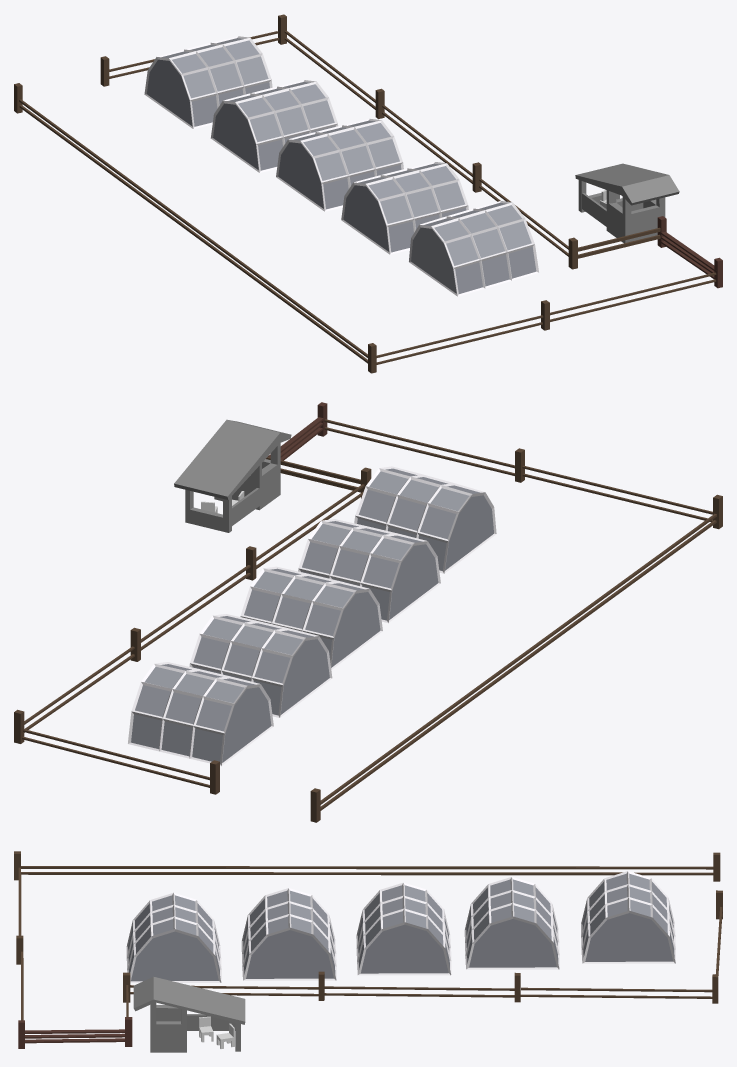
Rendered from Guard_House_Farm_FIN.glb.
The picture shows the model from 3 angles, top to bottom: view 1: azimuth 30°, elevation 25°; view 2: azimuth 150°, elevation 25°; view 3: azimuth 270°, elevation 25°; orthographic projection. The views are drawn at different scales.
Visible parts, largest first — view 1: Object_3.001, Cube.031, Object_3.003, Cube.002; view 2: Object_3.001, Cube.031, Object_3.003, Cube.002; view 3: Object_3.001, Object_3.003, Cube.031, Cube.002, Cube.008, Cube.009, Cube.007.
Part boxes in pixels (x1,y1,x2,y2): Object_3.001: (147,38,536,293); Cube.031: (14,14,716,373); Object_3.003: (144,36,538,296); Cube.002: (575,163,679,243); Object_3.001: (131,468,493,762); Cube.031: (14,419,722,822); Object_3.003: (128,466,496,765); Cube.002: (174,419,291,532); Object_3.001: (128,873,674,981); Object_3.003: (126,871,675,982); Cube.031: (14,851,722,1020); Cube.002: (133,976,245,1052); Cube.008: (25,1038,124,1043); Cube.009: (25,1029,124,1033); Cube.007: (25,1033,124,1038).
Size of the model in its own units: 36.58 by 5.89 by 61.83.
